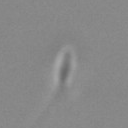normal: (22, 86, 64, 128)
